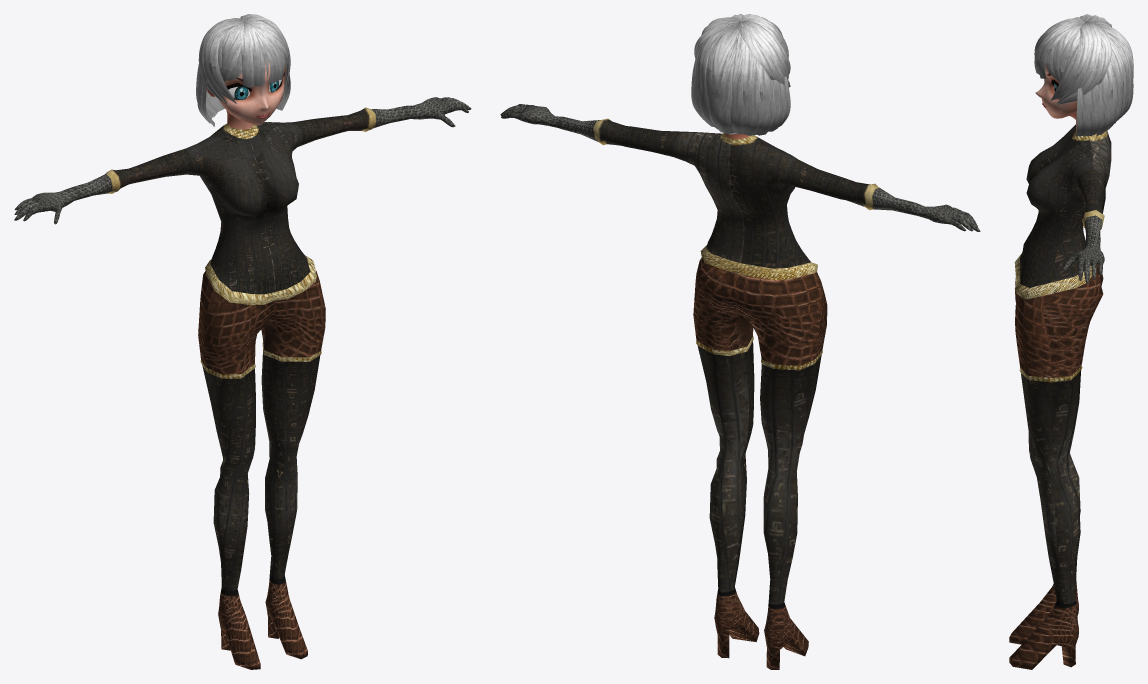
The model's file is main charc 0404.fbx.
3 views of the same model, side by side, from view 1: azimuth 30°, elevation 25°; view 2: azimuth 150°, elevation 25°; view 3: azimuth 270°, elevation 25° (orthographic). The views are drawn at different scales.
Visible parts, largest first — view 1: Object007, Object009; view 2: Object007, Object009; view 3: Object007, Object009.
Part boxes in pixels (x1=…): Object007: x1=14, y1=61, x2=471, y2=669; Object009: x1=196, y1=14, x2=290, y2=126; Object007: x1=500, y1=104, x2=980, y2=669; Object009: x1=691, y1=14, x2=790, y2=135; Object007: x1=1009, y1=63, x2=1123, y2=669; Object009: x1=1034, y1=14, x2=1133, y2=135.
Bounding box in the file's own units: 48.41 × 62.45 × 11.12.
